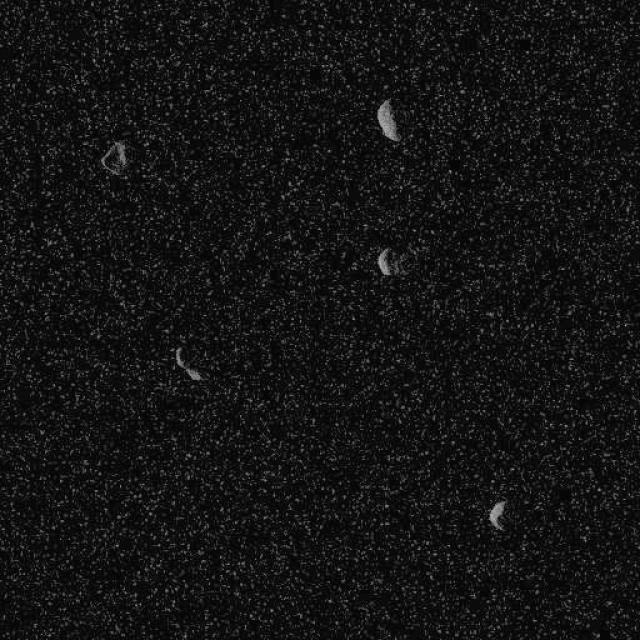D2: (172, 345, 204, 383), (375, 96, 401, 142), (99, 139, 130, 176), (488, 499, 507, 531), (376, 246, 394, 276)
